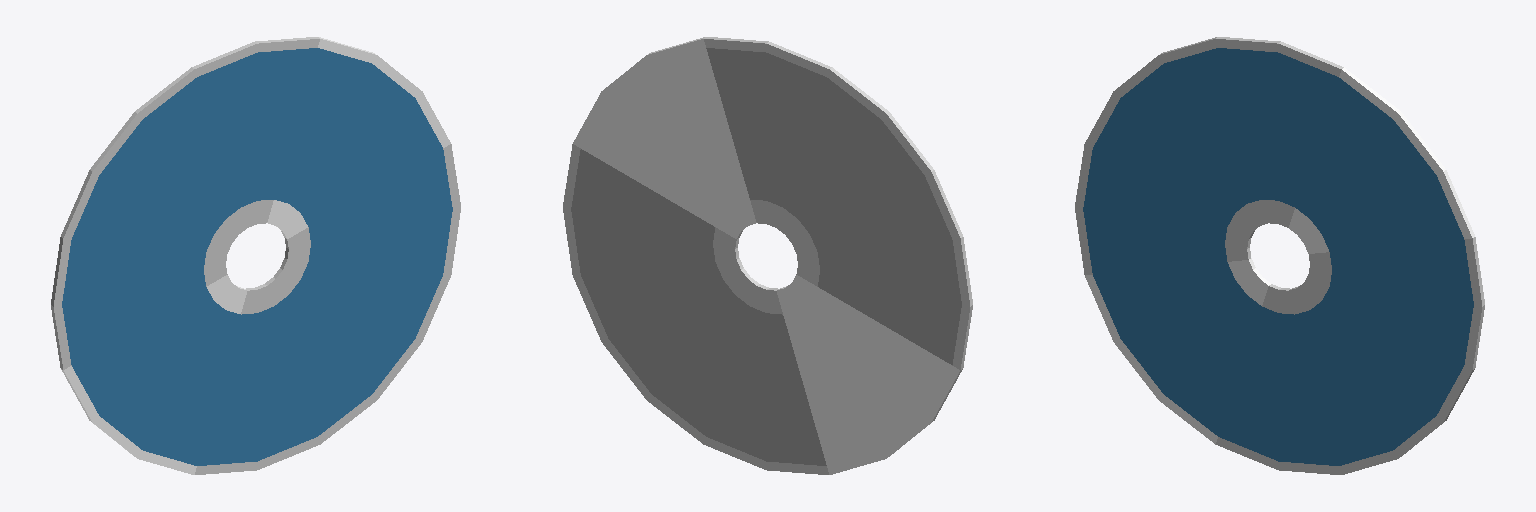
The picture shows the model from 3 angles: view 1: azimuth 30°, elevation 25°; view 2: azimuth 150°, elevation 25°; view 3: azimuth 330°, elevation 25°; orthographic projection.
Parts seen in each view (by area): view 1: CDs; view 2: CDs; view 3: CDs.
Part boxes in pixels (bbox=[...]): CDs: bbox=[51, 37, 460, 474]; CDs: bbox=[563, 37, 972, 474]; CDs: bbox=[1075, 37, 1484, 474].
Bounding box in the file's own units: 42.45 × 42.45 × 0.5096.
1 materials, 1 textured.